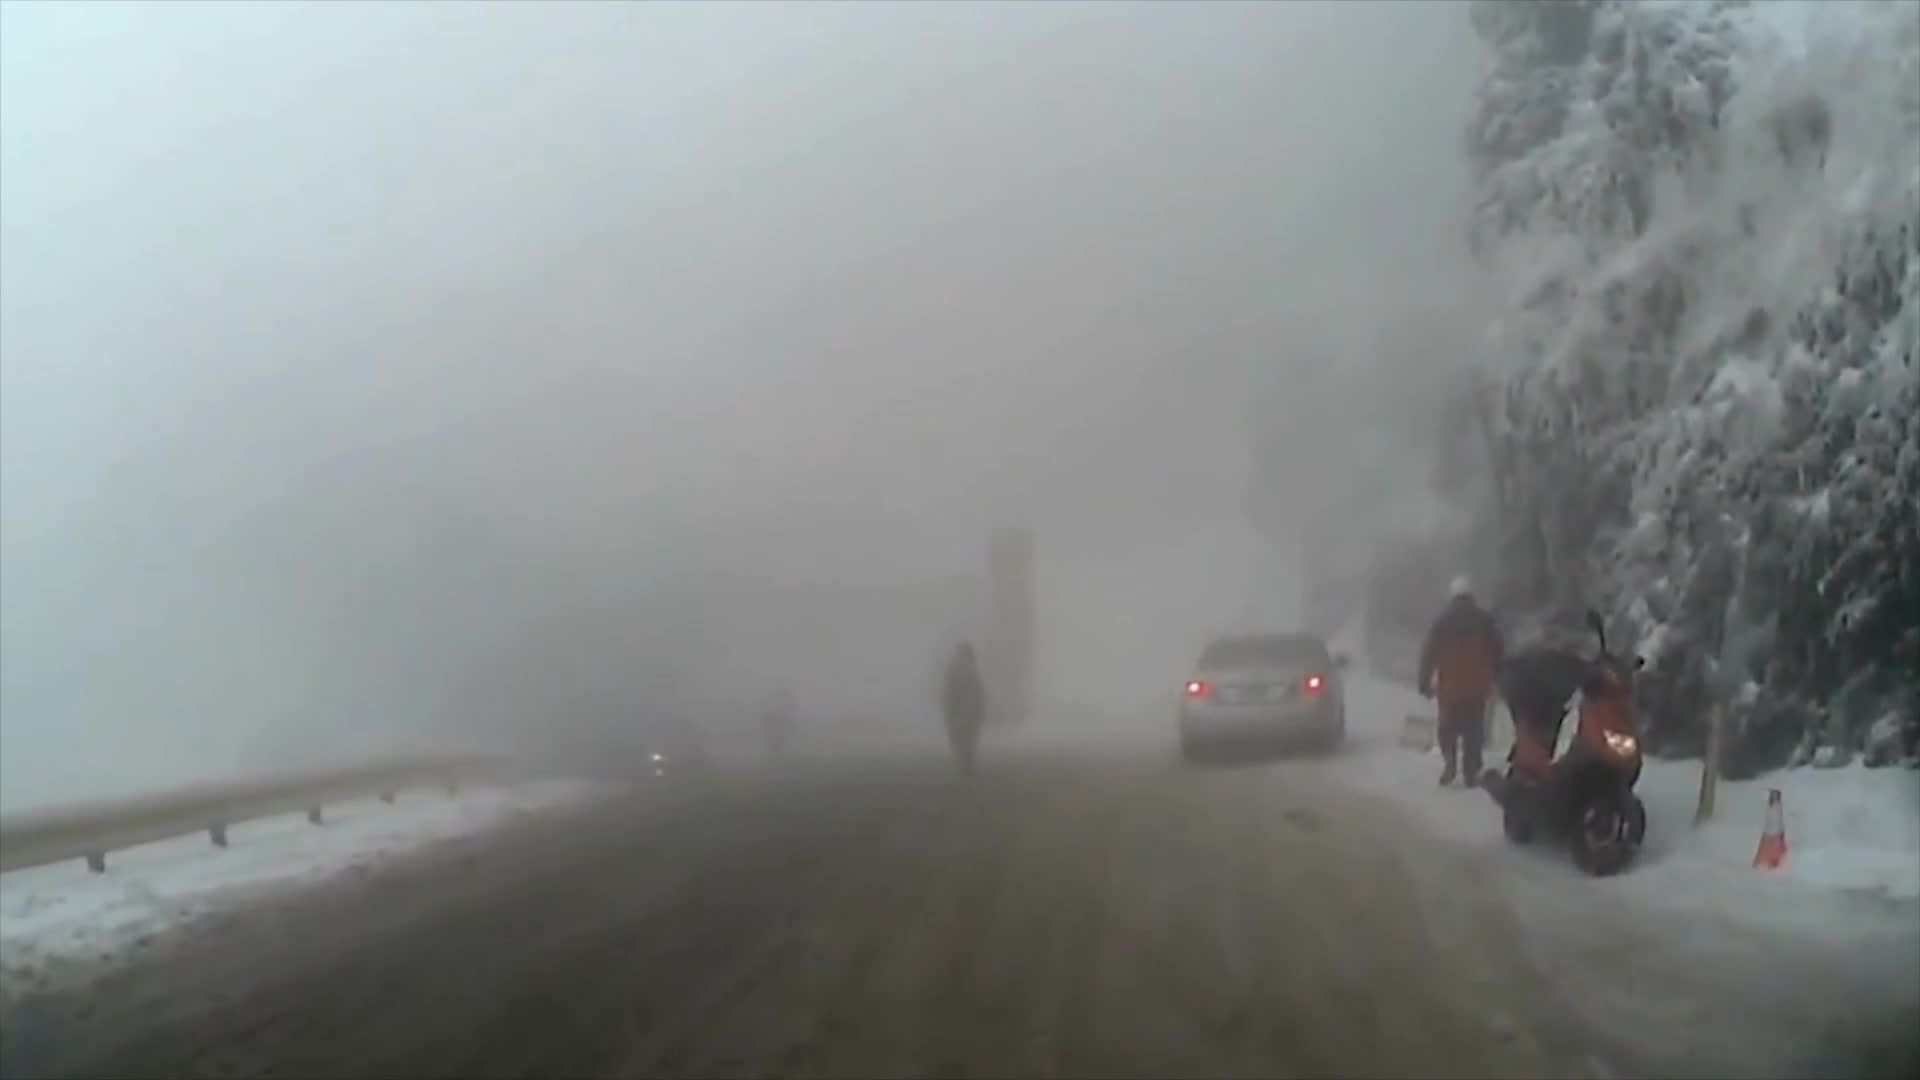pedestrian: (1412, 570, 1515, 794), (943, 638, 989, 781)
vehicle: (1177, 627, 1351, 764)
